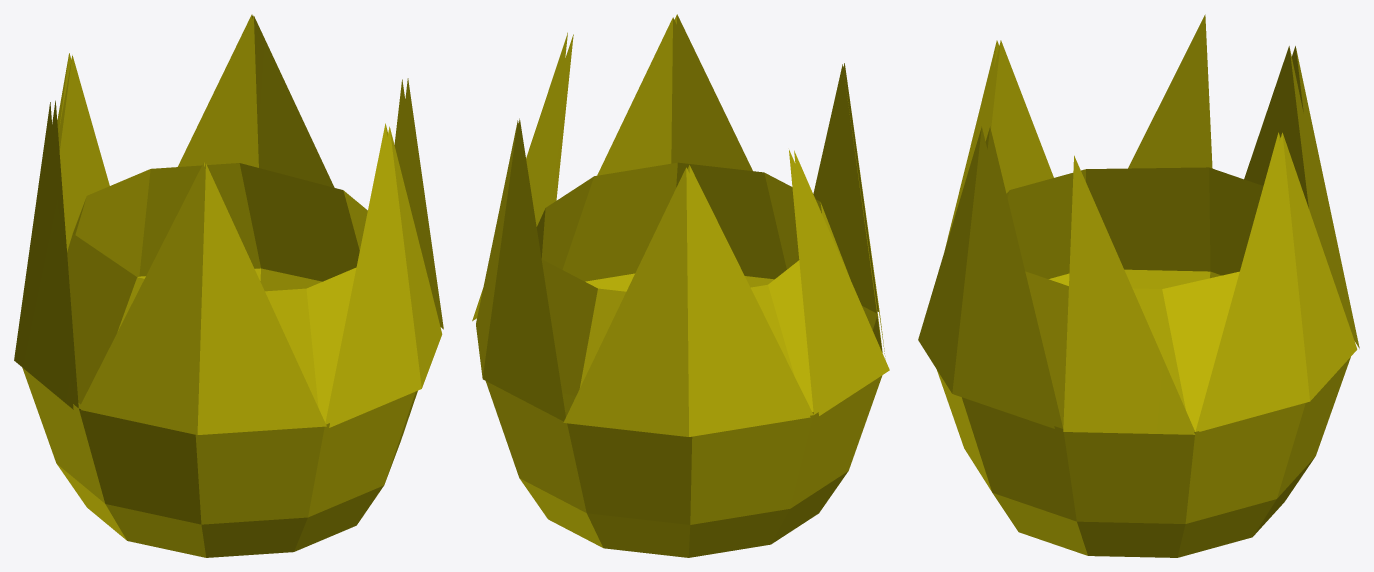
Rendered from SporeCanon.fbx.
3 views of the same model, side by side, from view 1: azimuth 30°, elevation 25°; view 2: azimuth 150°, elevation 25°; view 3: azimuth 270°, elevation 25° (orthographic).
Visible parts, largest first — view 1: MilkJar1; view 2: MilkJar1; view 3: MilkJar1.
Part boxes in pixels (box(x1,y1,x2,y2)): MilkJar1: box(14, 14, 443, 557); MilkJar1: box(472, 14, 889, 557); MilkJar1: box(918, 14, 1359, 557).
Size of the model in its own units: 251 by 269 by 260.
